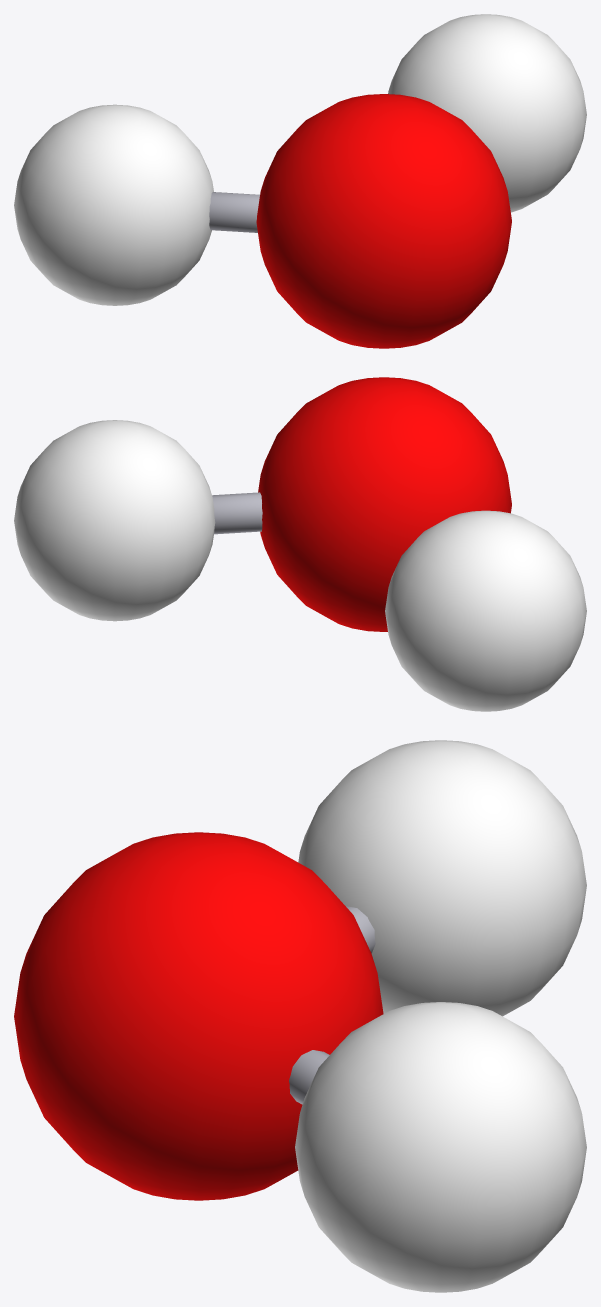
The model's file is water.glb.
The picture shows the model from 3 angles, top to bottom: view 1: azimuth 30°, elevation 25°; view 2: azimuth 150°, elevation 25°; view 3: azimuth 270°, elevation 25°; orthographic projection. The views are drawn at different scales.
Visible parts, largest first — view 1: O0, H2, H1, bond1-0; view 2: O0, H2, H1, bond0-0; view 3: O0, H1, H2, bond0-0.
Boxes of the visible parts, x1,y1,x2,y2 form: O0: (256, 94, 511, 348); H2: (14, 104, 213, 305); H1: (388, 14, 586, 212); bond1-0: (209, 192, 259, 232); O0: (258, 377, 511, 631); H2: (385, 510, 586, 711); H1: (14, 420, 215, 621); bond0-0: (212, 492, 262, 534); O0: (14, 832, 383, 1200); H1: (295, 1002, 586, 1292); H2: (298, 740, 586, 1016); bond0-0: (289, 1050, 329, 1104).
Size of the model in its own units: 2.25 by 0.912 by 1.41.
